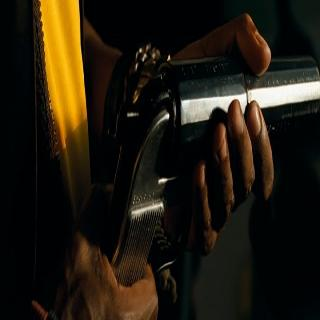gun: (75, 26, 318, 310)
